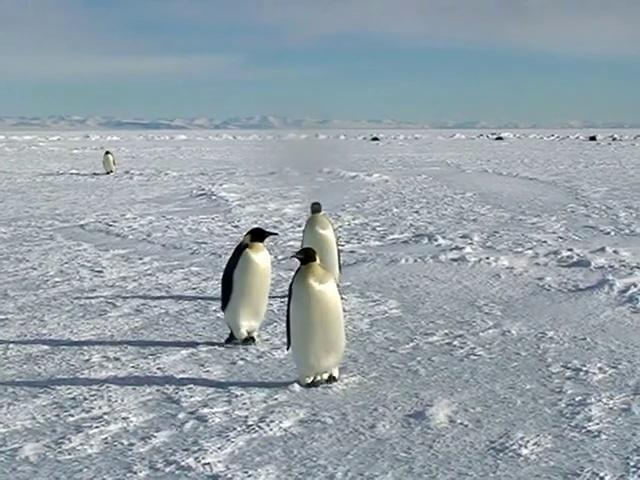animal: (302, 202, 342, 282)
